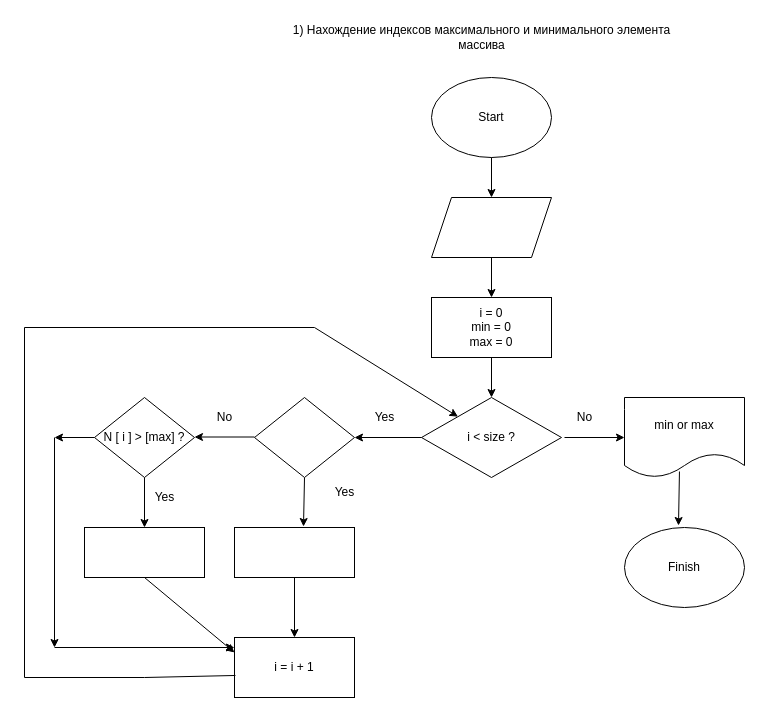
Image size: 762x715. Some labels were removed from this diagram. The shapes that lost their labels are listed below. From the top down, each one's centre as x and y in pixels, then its label:
[491,227]: N [ i ] size = N
[304,437]: N [ i ] < [min] ?
[144,552]: max = i
[294,552]: min = i
